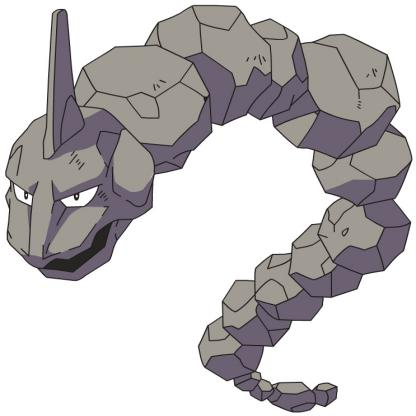Onix: (1, 1, 416, 416)
